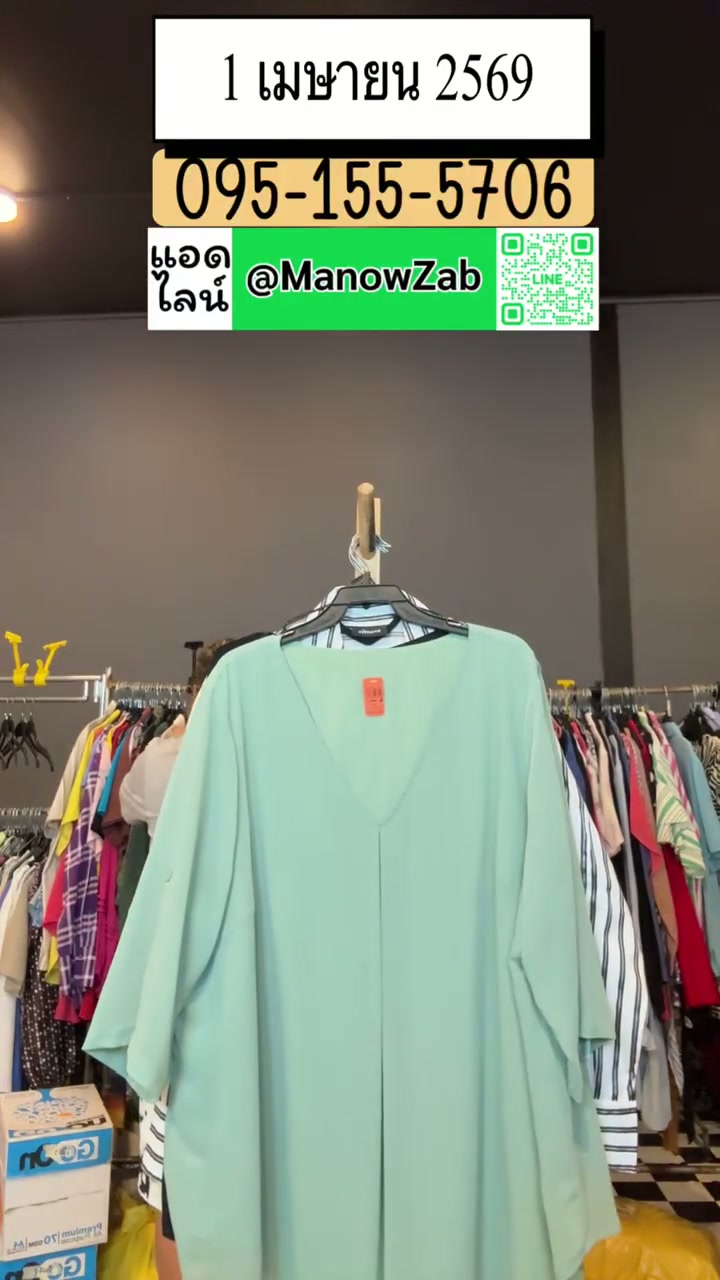display_shirt: (88, 627, 616, 1279)
